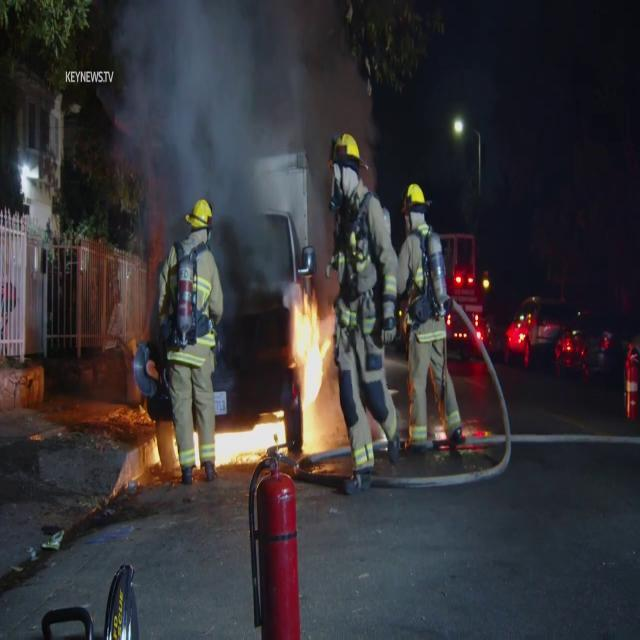Fire: (288, 284, 332, 456), (210, 404, 290, 471)
Smoke: (110, 0, 286, 286)
